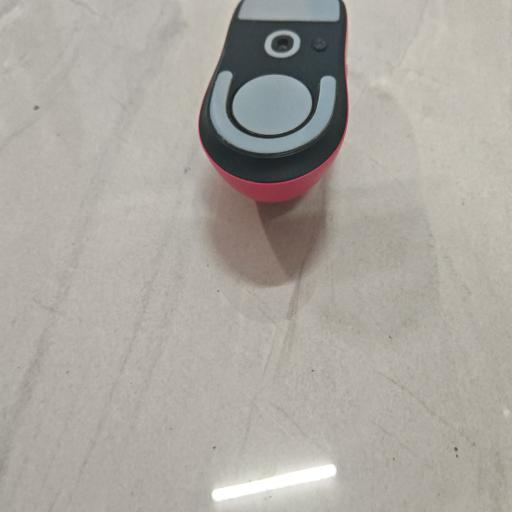mouse: (199, 0, 348, 202)
